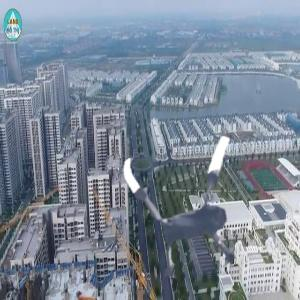drone: (109, 123, 281, 295)
